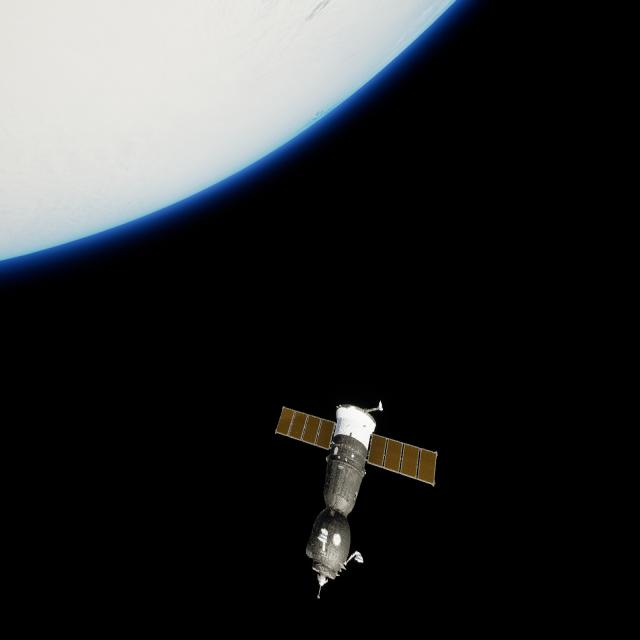Satellites revolving around earth: (272, 397, 440, 600)
